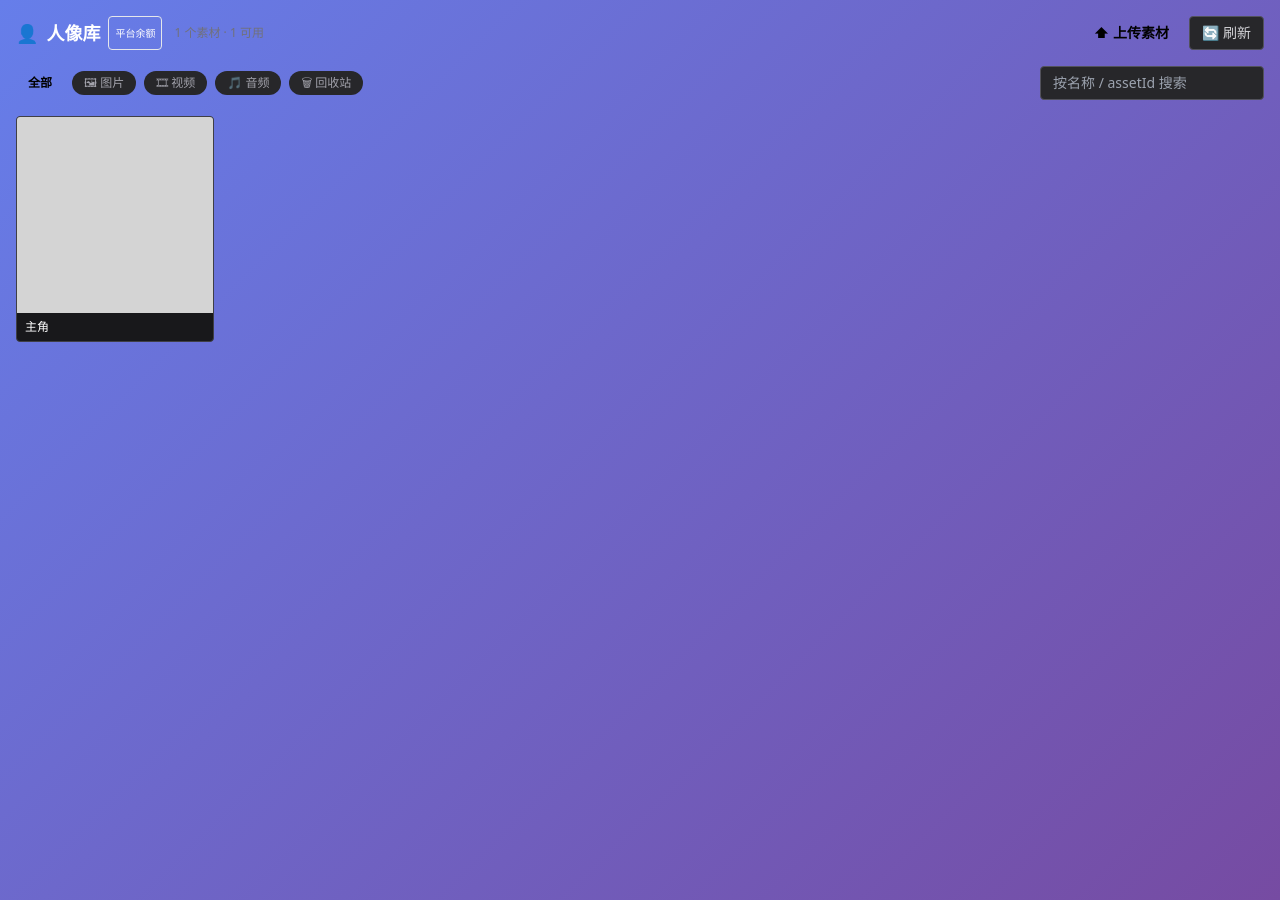
Test: 三个删除动作在 UI 上是三件事 › 文案是「移出素材库」而不是「删除」—— 软删不释放配额,叫删除会让人困惑
Check: the element with test id "platform-portrait-library" is shown, box [0,0,1279,358]
Click the button with test id "platform-card-a1".
click(115, 229)  # box [16,116,214,342]
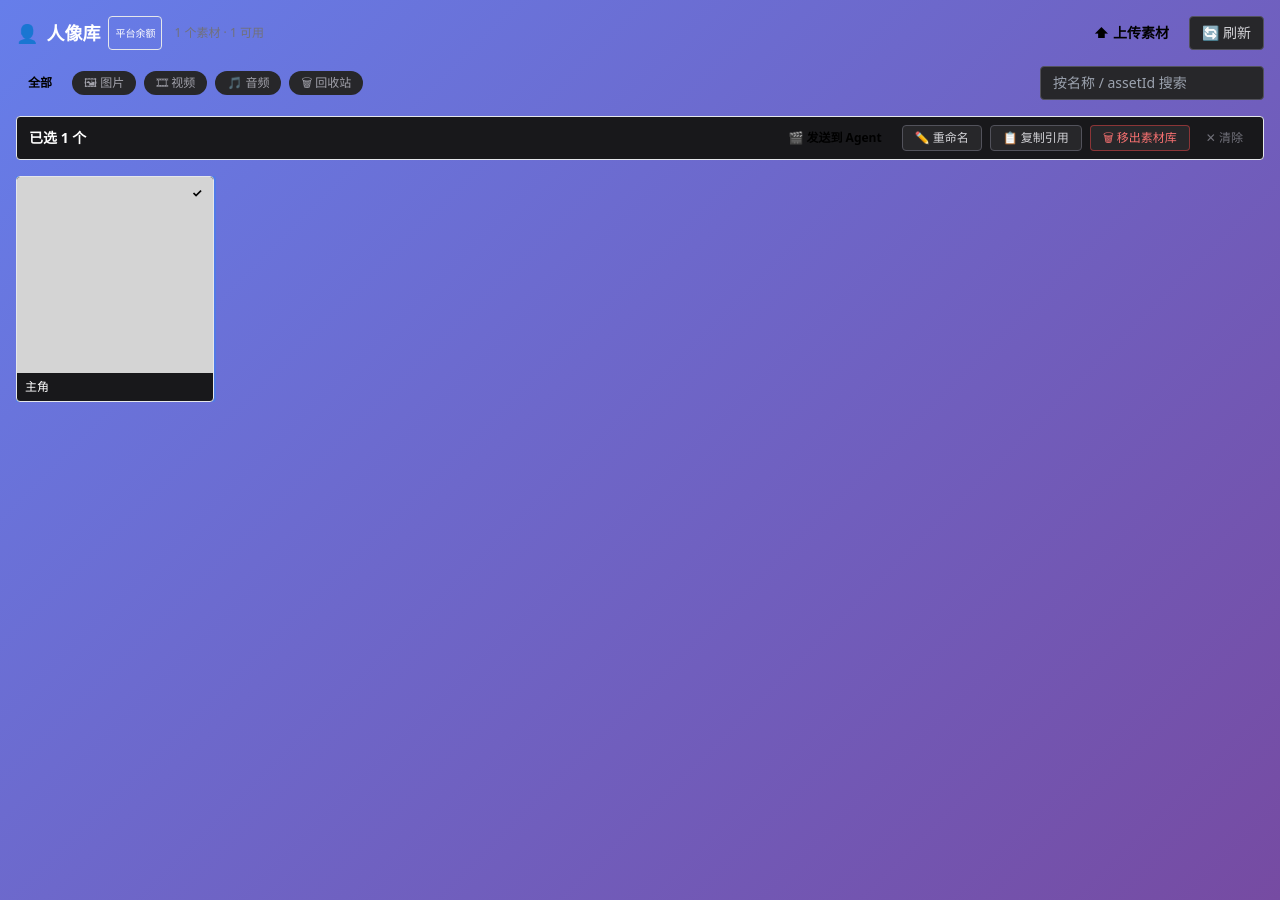
Check: the button "🗑 移出素材库" is shown, box [1090,125,1190,151]
